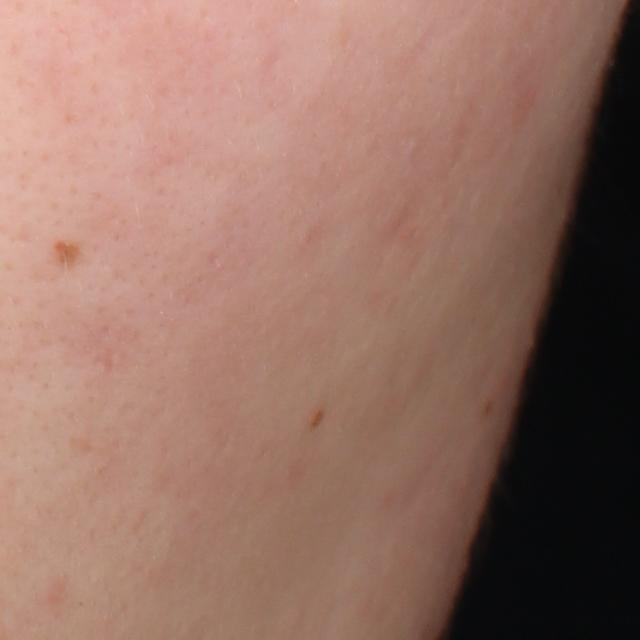nevus: (51, 239, 78, 272), (306, 402, 328, 427)
